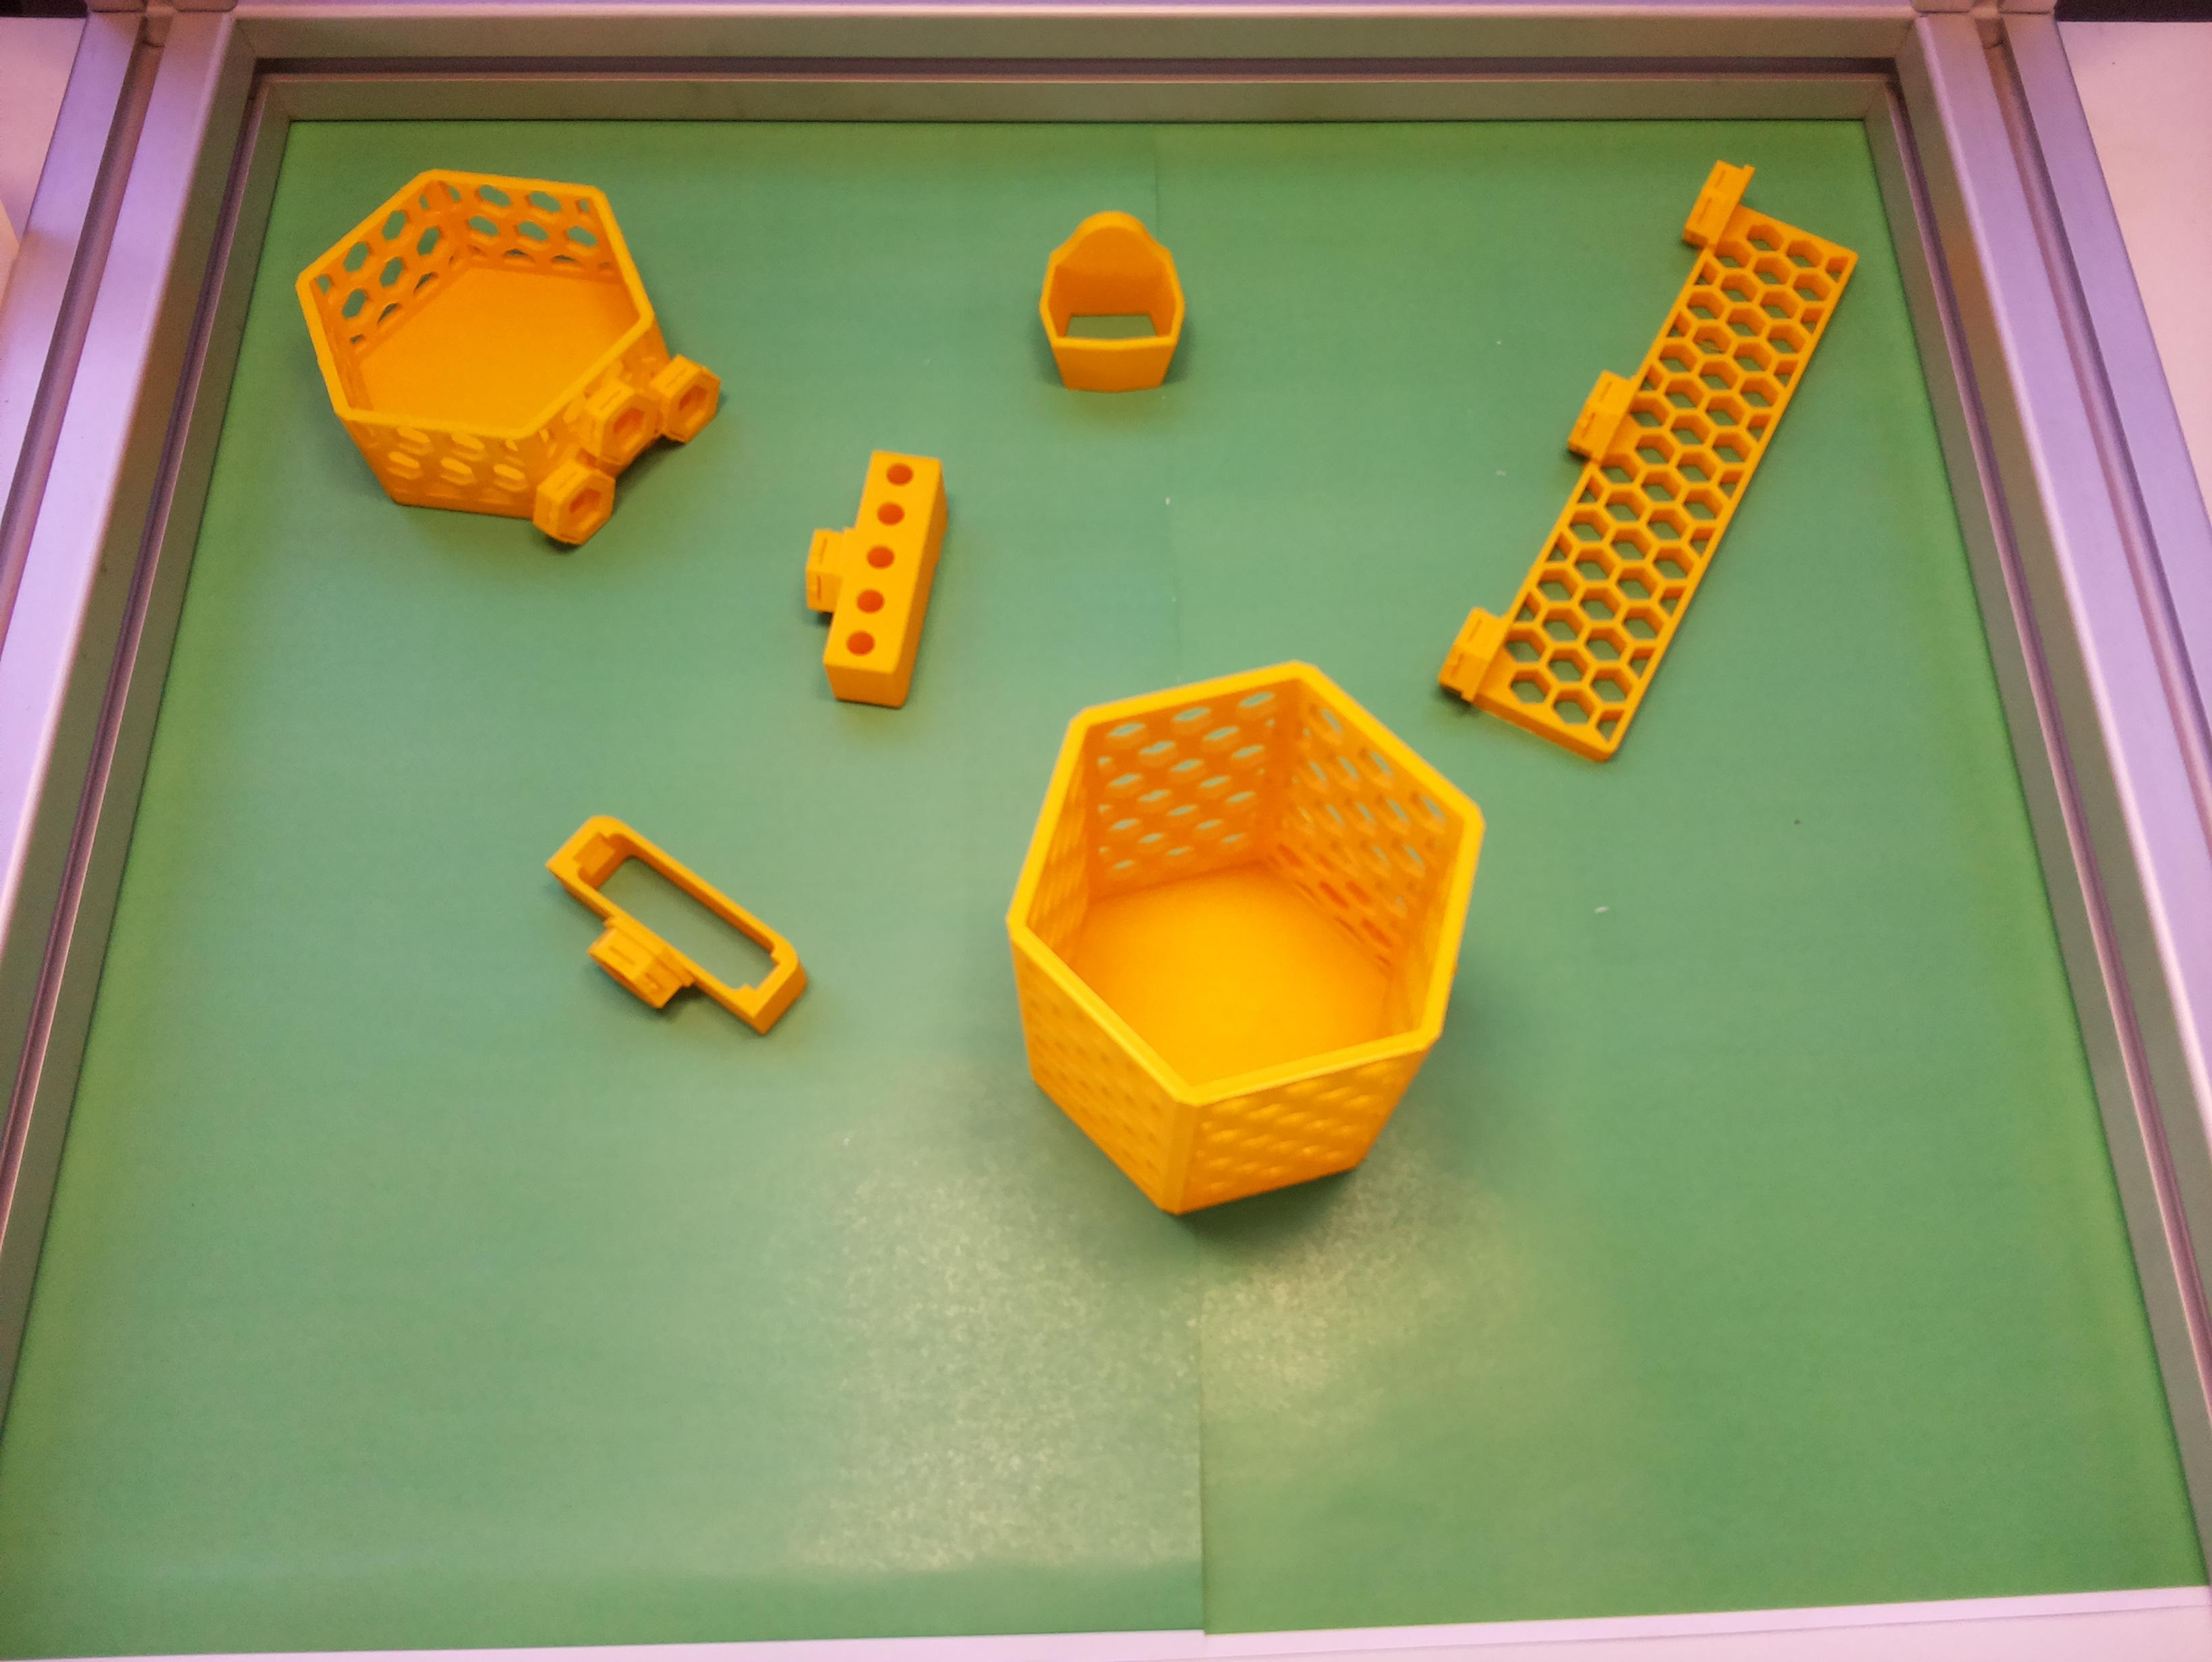bit_holder: (779, 435, 960, 714)
bottle_holder: (253, 98, 754, 616)
cup_holder: (946, 608, 1522, 1267)
cutter_holder: (515, 798, 821, 1074)
scissor_holder: (1035, 208, 1189, 393)
tool_holder: (1433, 143, 1875, 772)
